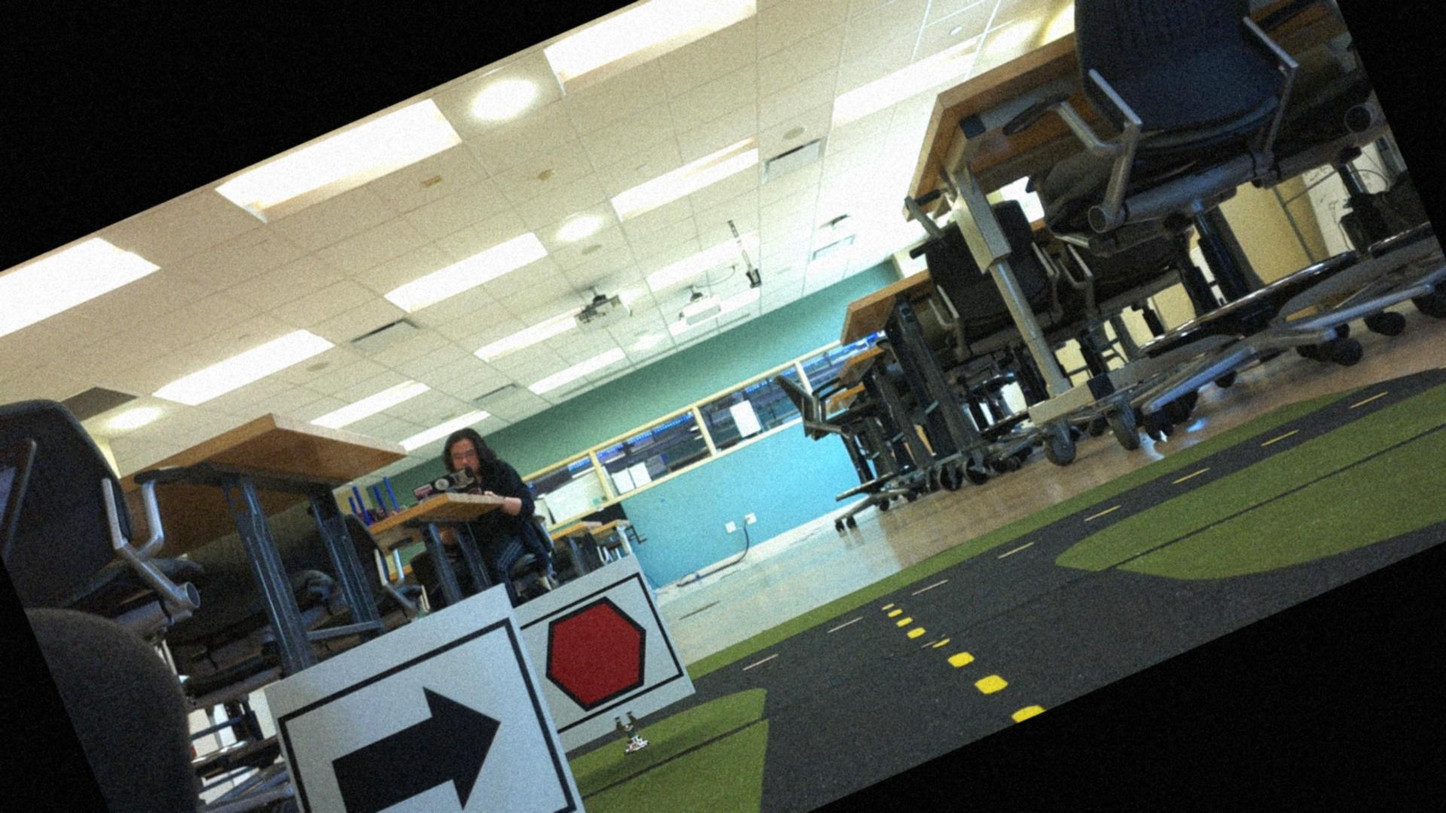stop: (516, 580, 676, 732)
turnright: (279, 629, 575, 812)
yellowline: (947, 629, 1041, 738), (887, 598, 929, 647)
